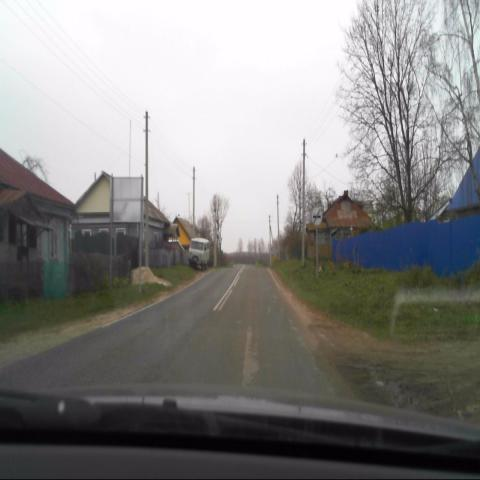3_21: (311, 206, 322, 228)
